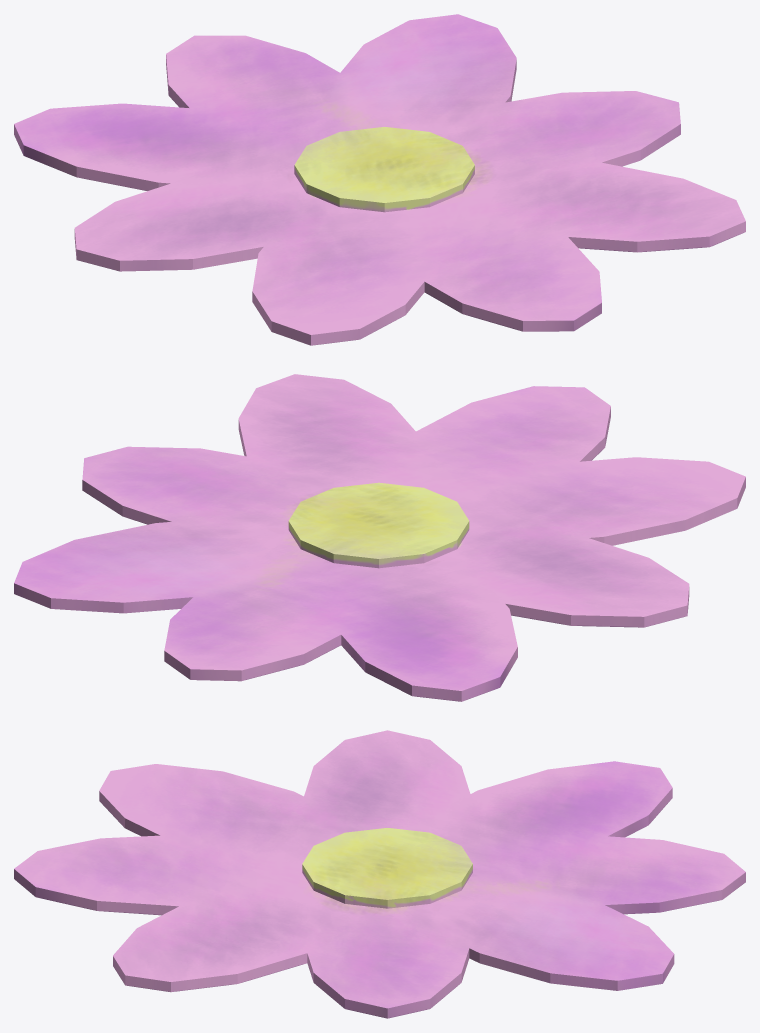
Rendered from platform.fbx.
The picture shows the model from 3 angles, top to bottom: view 1: azimuth 30°, elevation 25°; view 2: azimuth 150°, elevation 25°; view 3: azimuth 270°, elevation 25°; orthographic projection. The views are drawn at different scales.
Parts seen in each view (by area): view 1: pasted__pasted__pasted__pasted__pasted__pasted__pasted__pDi; view 2: pasted__pasted__pasted__pasted__pasted__pasted__pasted__pDi; view 3: pasted__pasted__pasted__pasted__pasted__pasted__pasted__pDi.
Boxes of the visible parts, x1=… form: pasted__pasted__pasted__pasted__pasted__pasted__pasted__pDi: x1=14, y1=14, x2=745, y2=345; pasted__pasted__pasted__pasted__pasted__pasted__pasted__pDi: x1=14, y1=374, x2=745, y2=701; pasted__pasted__pasted__pasted__pasted__pasted__pasted__pDi: x1=14, y1=730, x2=745, y2=1018.
Size of the model in its own units: 11921 by 377 by 13257.
Materials: 1 (1 with a texture image).
